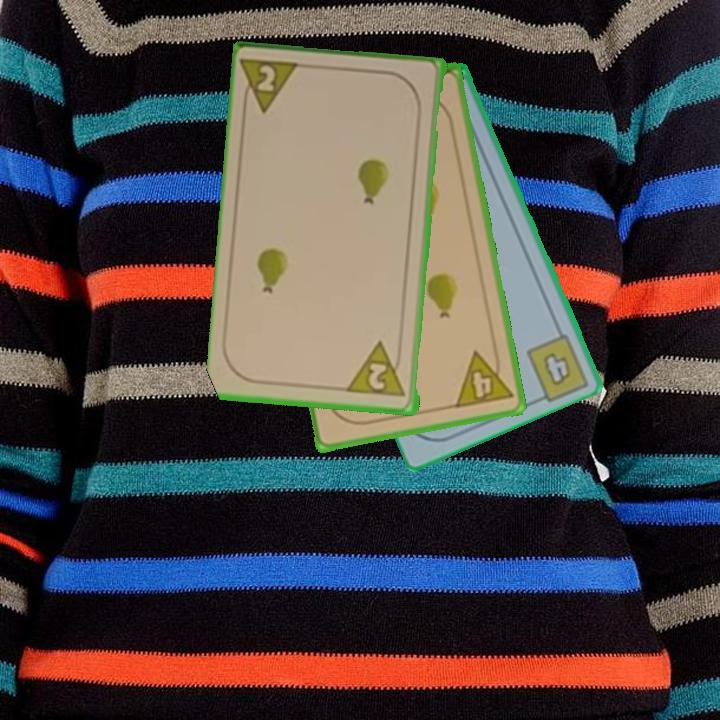2p: (239, 55, 306, 118), (346, 339, 409, 400)
4b: (539, 349, 575, 389)
4p: (451, 344, 516, 411)
